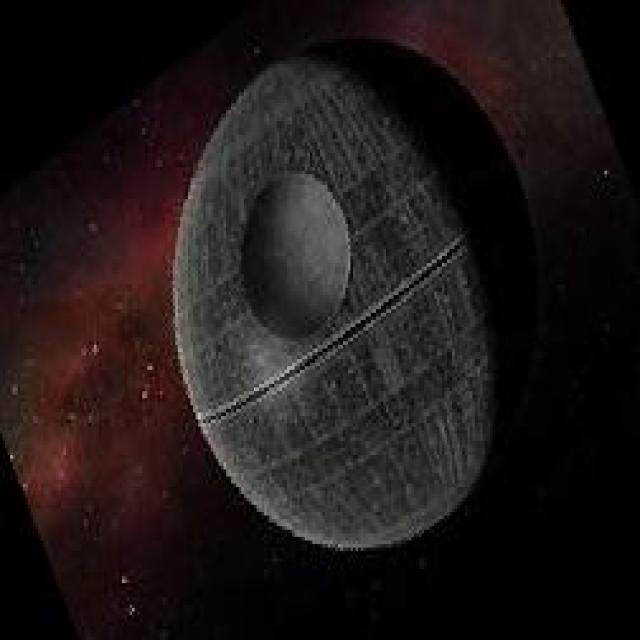Death Star: (172, 45, 540, 551)
